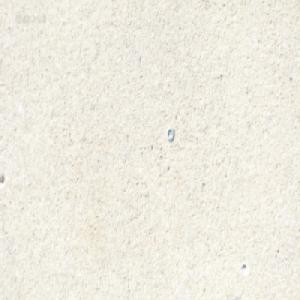Washer: (166, 126, 174, 141)
